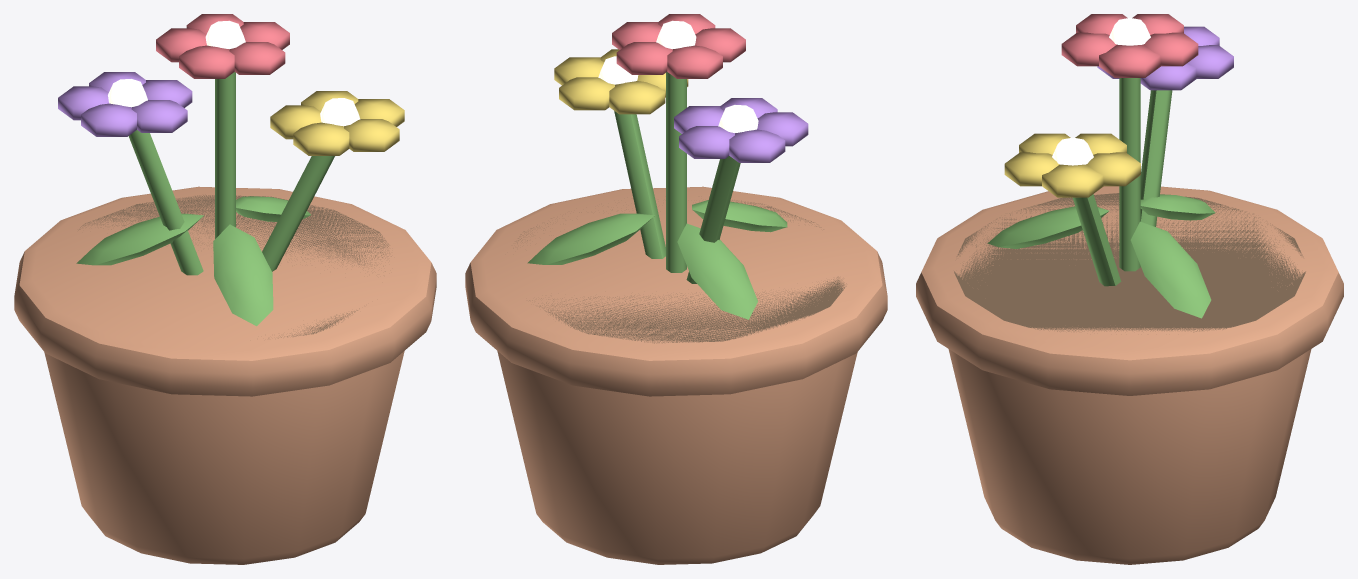
Rendered from flowerpot.glb.
3 views of the same model, side by side, from view 1: azimuth 30°, elevation 25°; view 2: azimuth 150°, elevation 25°; view 3: azimuth 270°, elevation 25° (orthographic).
Parts seen in each view (by area): view 1: flowerpot; view 2: flowerpot; view 3: flowerpot.
Part boxes in pixels (x1,y1,x2,y2): flowerpot: (14, 14, 436, 564); flowerpot: (465, 14, 887, 564); flowerpot: (916, 14, 1343, 564).
Size of the model in its own units: 0.6 by 0.76 by 0.6.
